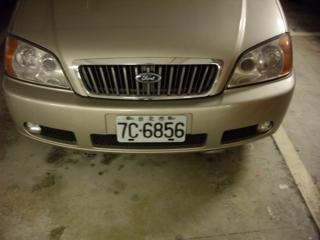plate: (114, 113, 187, 144)
